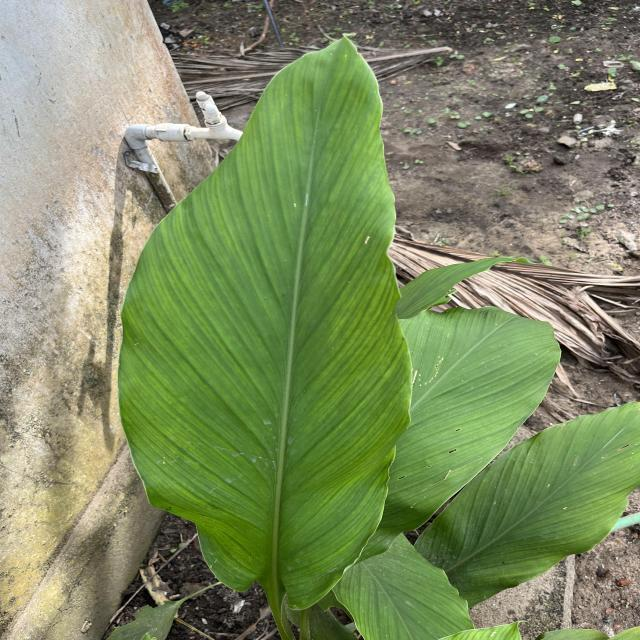Curcuma longa: (111, 23, 419, 618), (411, 396, 640, 610)
